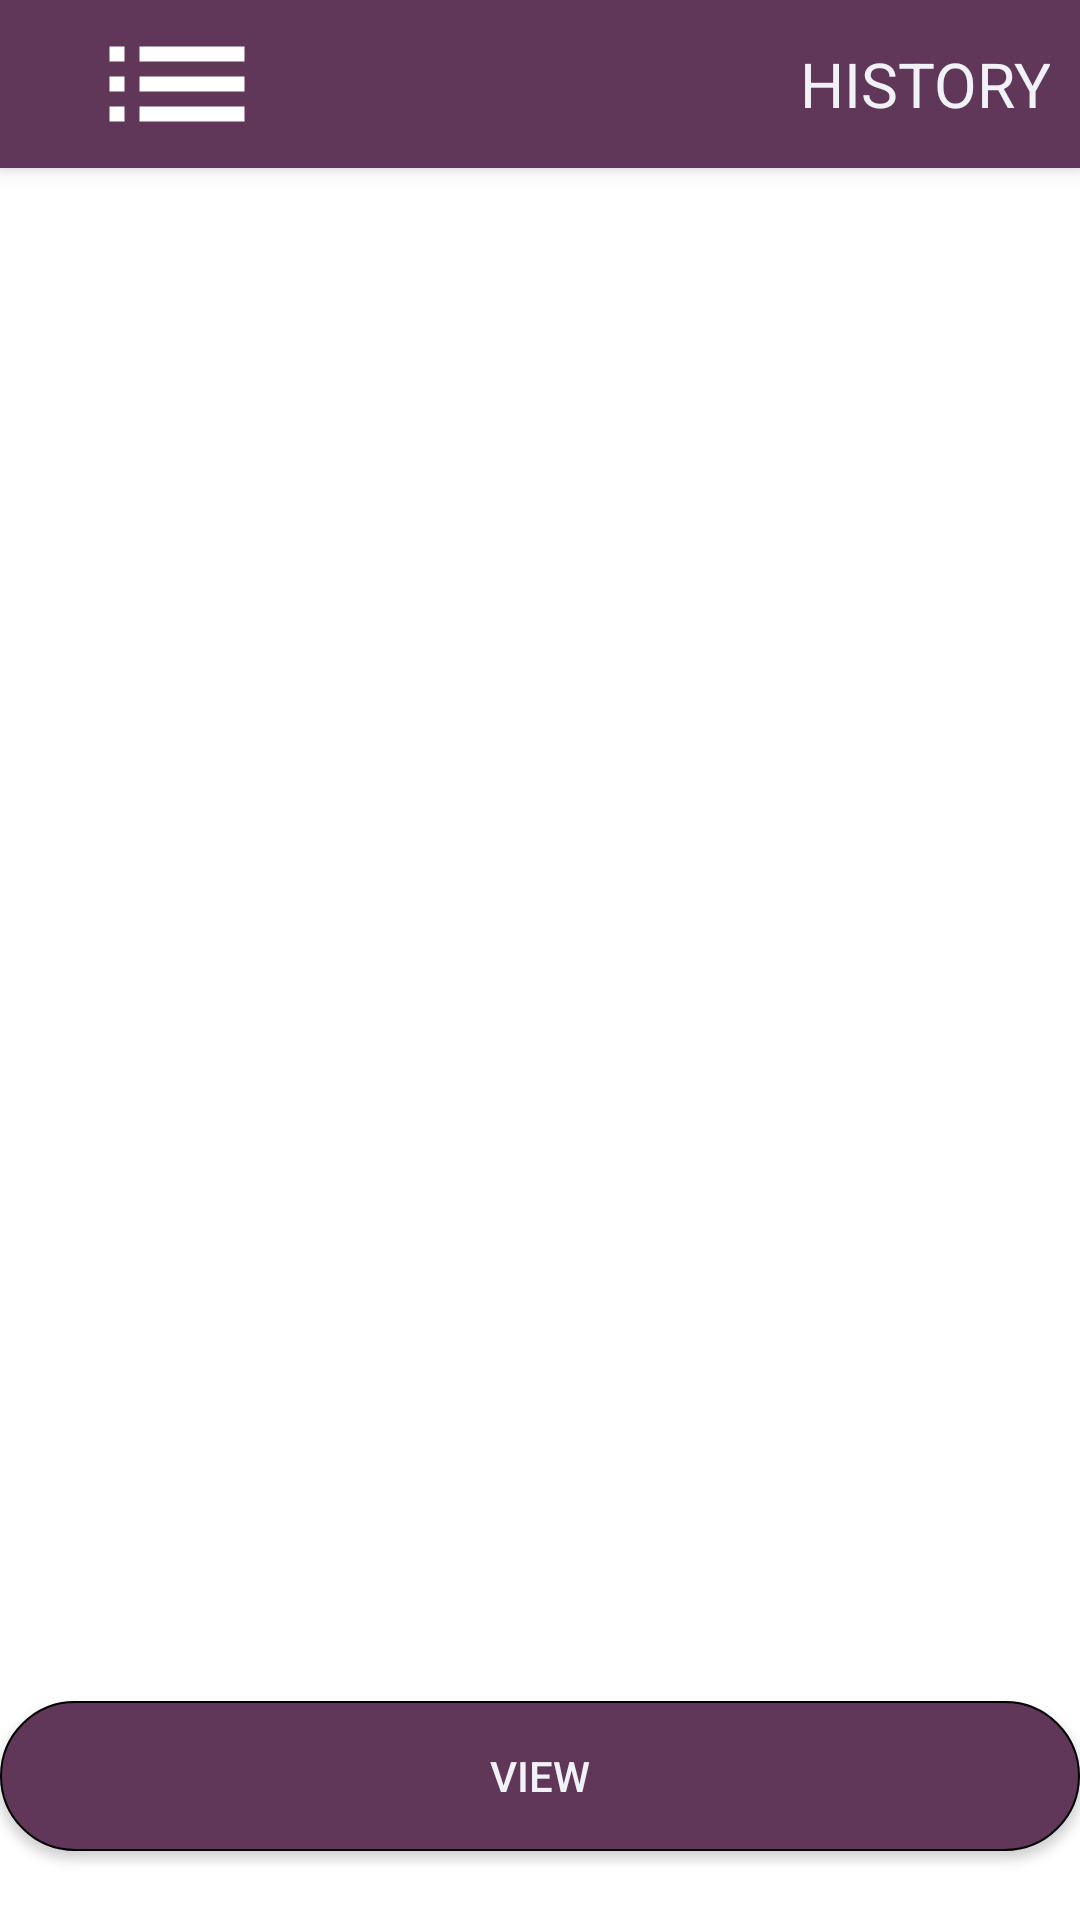

Screen size 1080x1920. Icon name, then its center in pixels as point (x, y):
list: point (177, 84)
